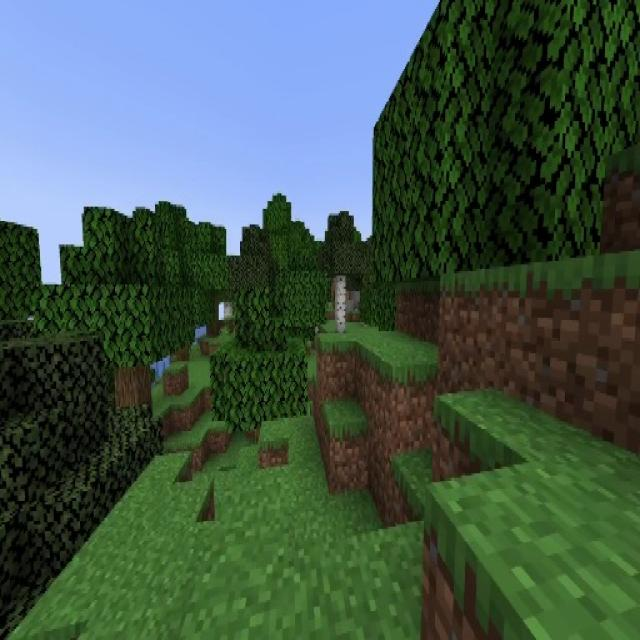birch: (317, 212, 366, 332)
birch_log: (335, 278, 347, 333)
oak: (46, 209, 186, 422), (182, 231, 235, 339)
oak_log: (117, 366, 153, 414)
